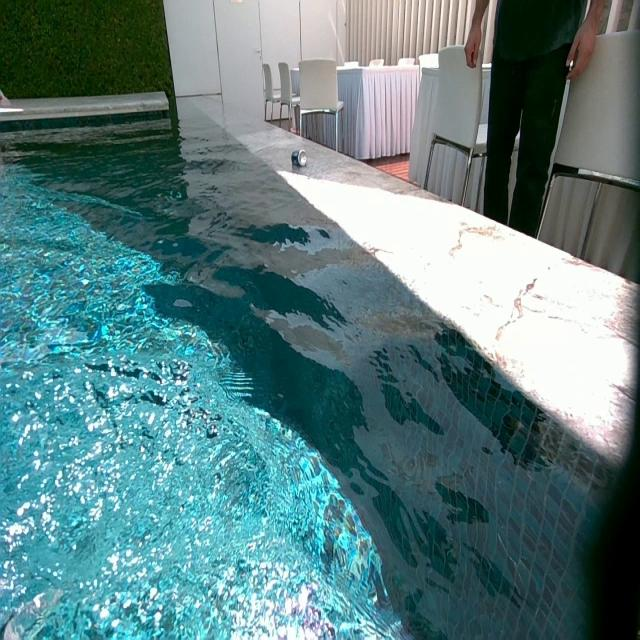Cans: (291, 149, 304, 166)
